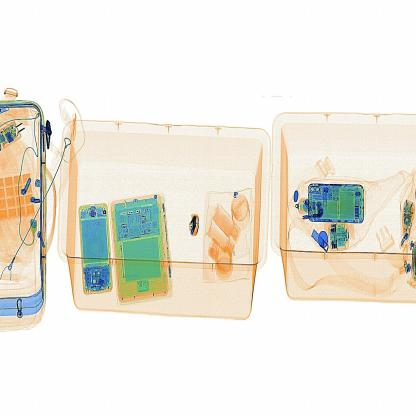wrench: (183, 206, 201, 242)
